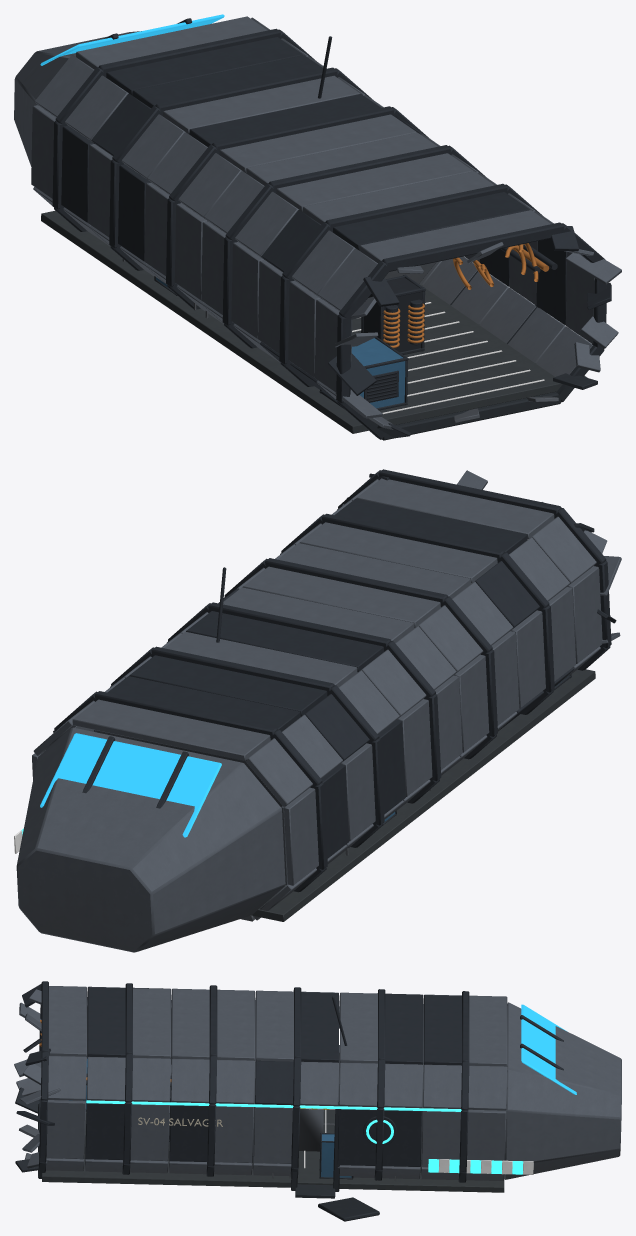
The model's file is sv04_fore.glb.
3 renders of one model, top to bottom at view 1: azimuth 30°, elevation 25°; view 2: azimuth 150°, elevation 25°; view 3: azimuth 270°, elevation 25°, orthographic. The views are drawn at different scales.
Visible parts, largest first — view 1: sv04_fore; view 2: sv04_fore; view 3: sv04_fore.
Part boxes in pixels (<box>): sv04_fore: <box>14,14,621,440</box>; sv04_fore: <box>14,469,621,952</box>; sv04_fore: <box>14,981,621,1221</box>.
Size of what is drawn, in the model's own units: 14.87 by 9.5 by 28.92.
Materials: 24 (18 with a texture image).
